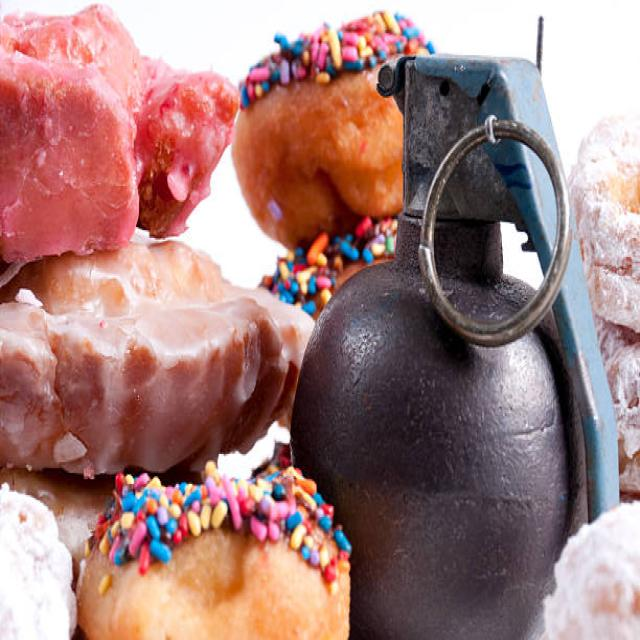grenade: (280, 28, 625, 640)
